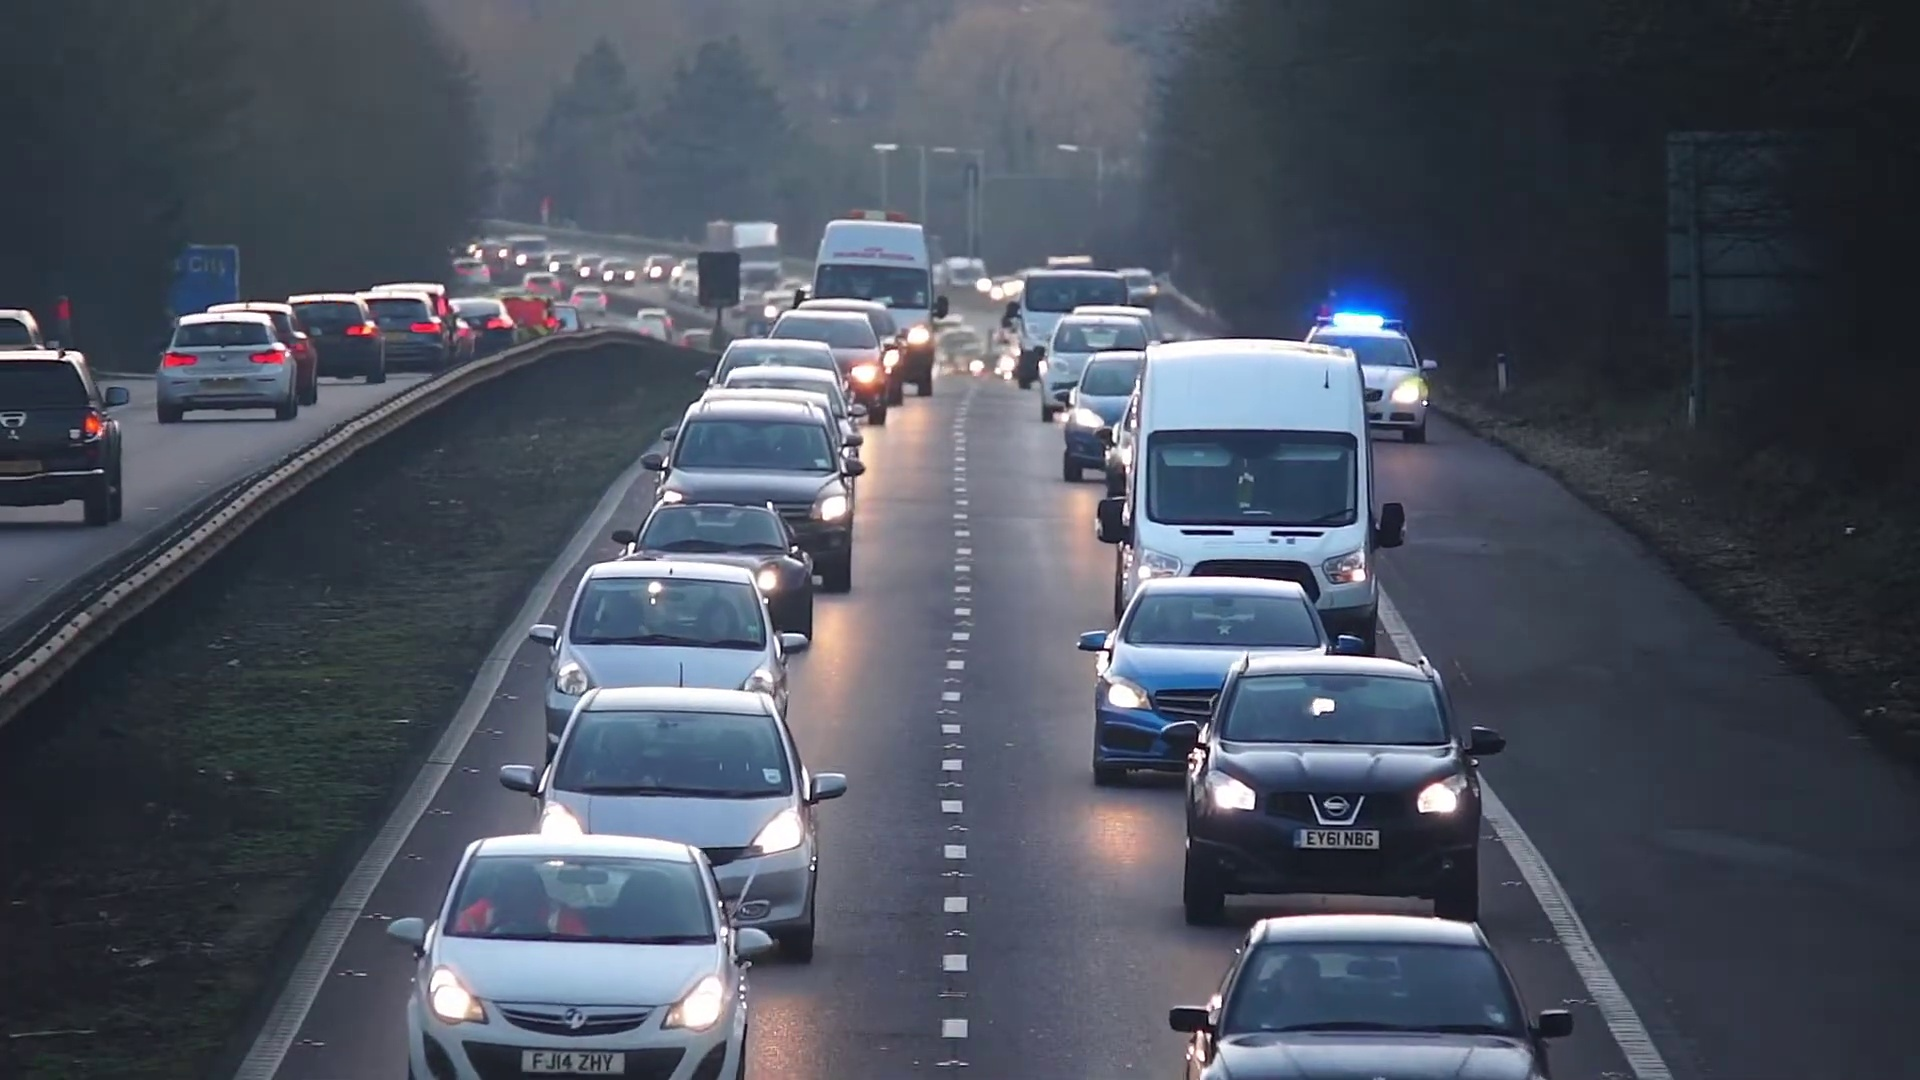license_plate: (513, 1046, 626, 1074), (1290, 826, 1380, 852)
